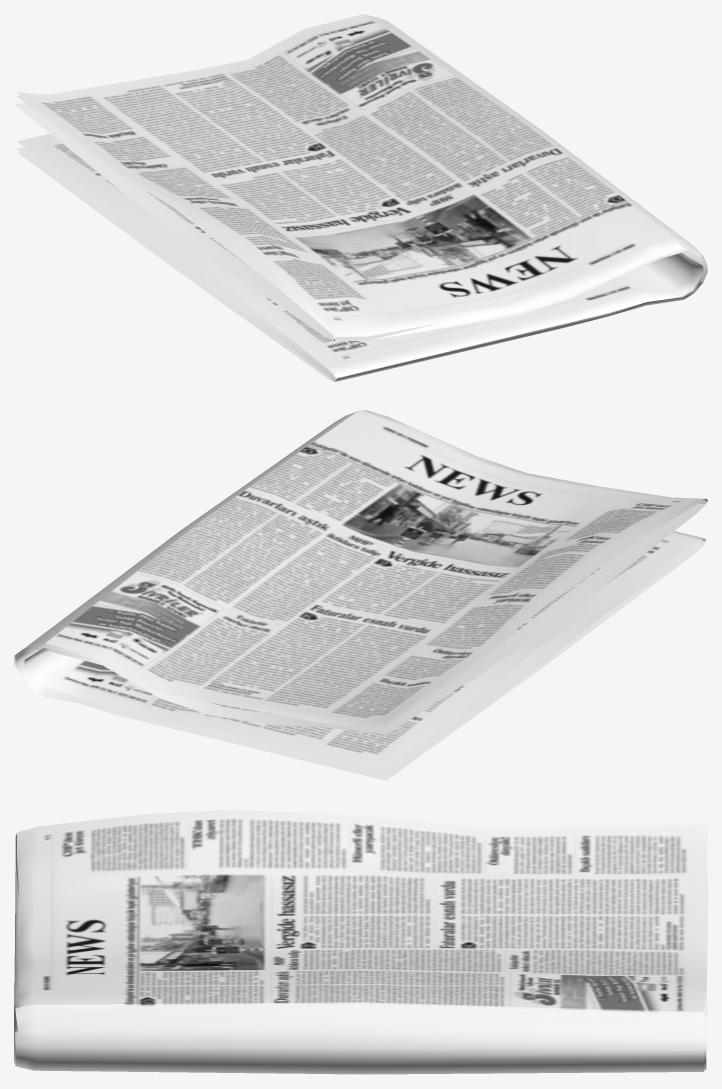
Rendered from newspaper.FBX.
The picture shows the model from 3 angles, top to bottom: view 1: azimuth 30°, elevation 25°; view 2: azimuth 150°, elevation 25°; view 3: azimuth 270°, elevation 25°; orthographic projection. The views are drawn at different scales.
Visible parts, largest first — view 1: newspaper; view 2: newspaper; view 3: newspaper.
Boxes of the visible parts, <box> form: newspaper: <box>14,14,707,381</box>; newspaper: <box>14,410,707,780</box>; newspaper: <box>14,809,707,1074</box>.
Size of the model in its own units: 25.23 by 37.04 by 4.76.
Materials: 1 (1 with a texture image).
